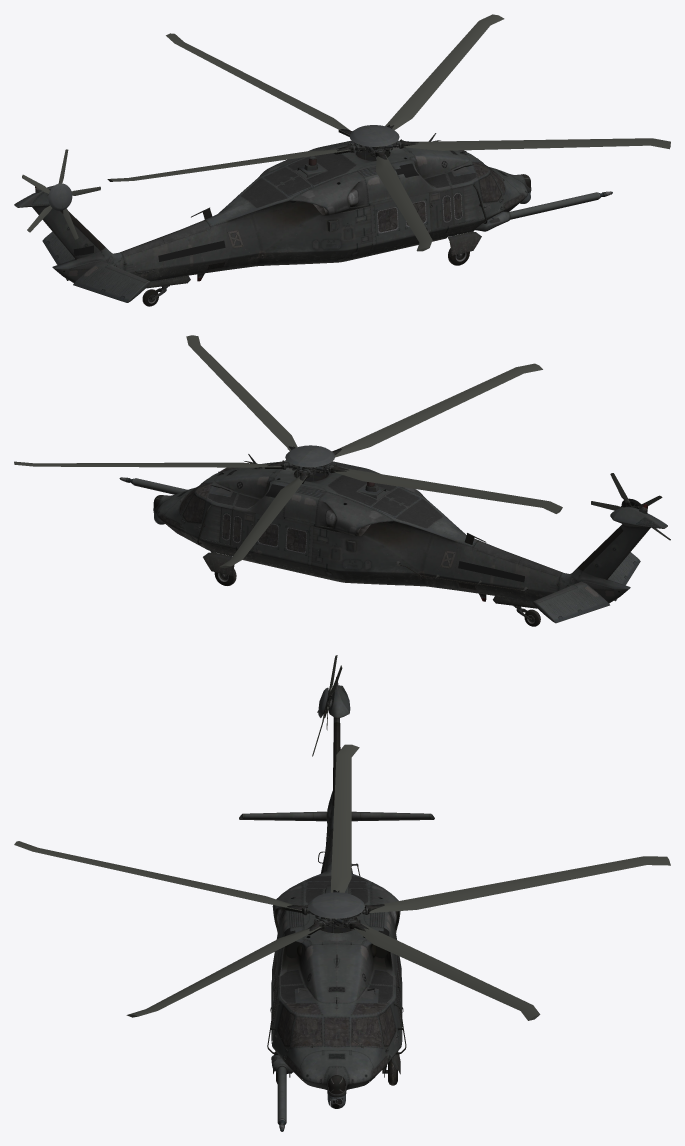
The picture shows the model from 3 angles, top to bottom: view 1: azimuth 30°, elevation 25°; view 2: azimuth 150°, elevation 25°; view 3: azimuth 270°, elevation 25°; orthographic projection. The views are drawn at different scales.
Parts seen in each view (by area): view 1: TomGroup_0, TomGroup_22, TomGroup_26; view 2: TomGroup_0, TomGroup_22, TomGroup_26; view 3: TomGroup_0, TomGroup_22, TomGroup_26.
Part boxes in pixels (bbox=[...]): TomGroup_0: bbox=[14, 124, 612, 306]; TomGroup_22: bbox=[22, 14, 670, 251]; TomGroup_26: bbox=[73, 150, 524, 261]; TomGroup_0: bbox=[119, 445, 667, 626]; TomGroup_22: bbox=[14, 335, 670, 568]; TomGroup_26: bbox=[160, 467, 524, 582]; TomGroup_0: bbox=[239, 677, 434, 1131]; TomGroup_22: bbox=[14, 655, 670, 1020]; TomGroup_26: bbox=[272, 856, 401, 1084].
Size of the model in its own units: 18.15 by 5.63 by 15.7.
Materials: 4 (4 with a texture image).
